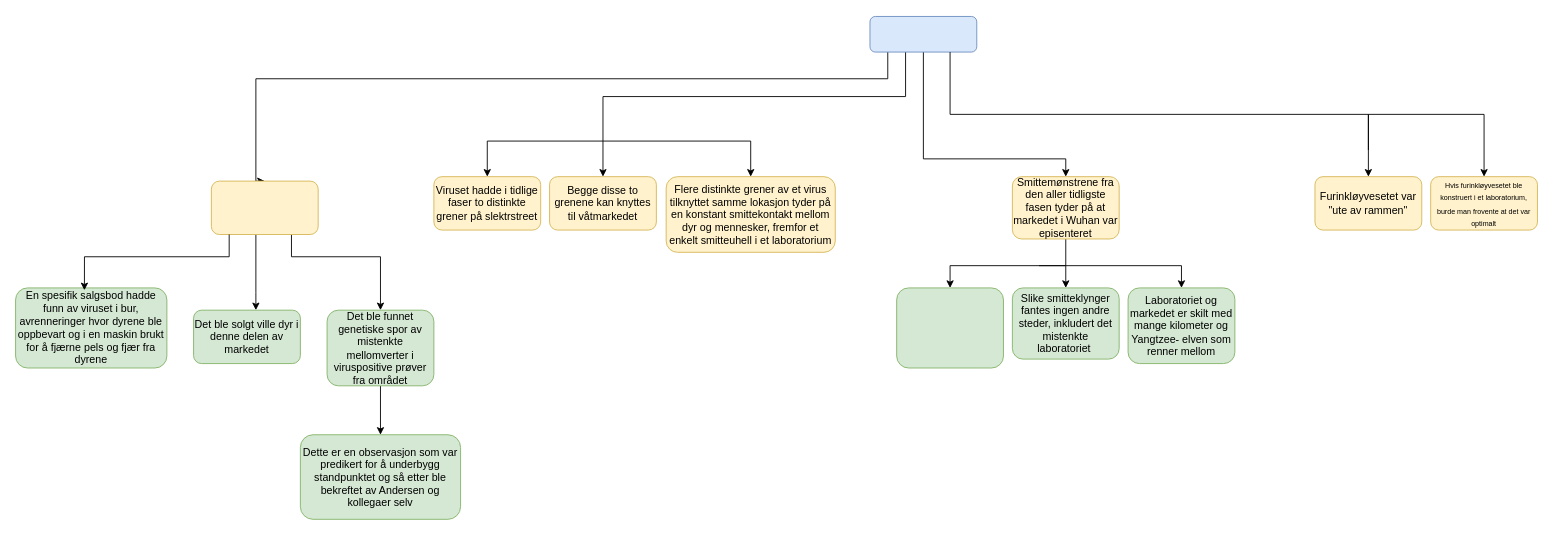
This 1553x535 diagram has some shape labels left out. The box of each missing label's shape, as (x1, y1, x2, y2) in pixels:
Et bestemt område av markedet peker seg ut som et mulig smittesenter: (210, 180, 318, 235)
Koronaviruset stammer fra et våtmarked i Wuhan: (869, 16, 977, 52)
Tidlige data viser at det var smitteklynger rundt markadet i Wuhan.: (896, 287, 1003, 368)
